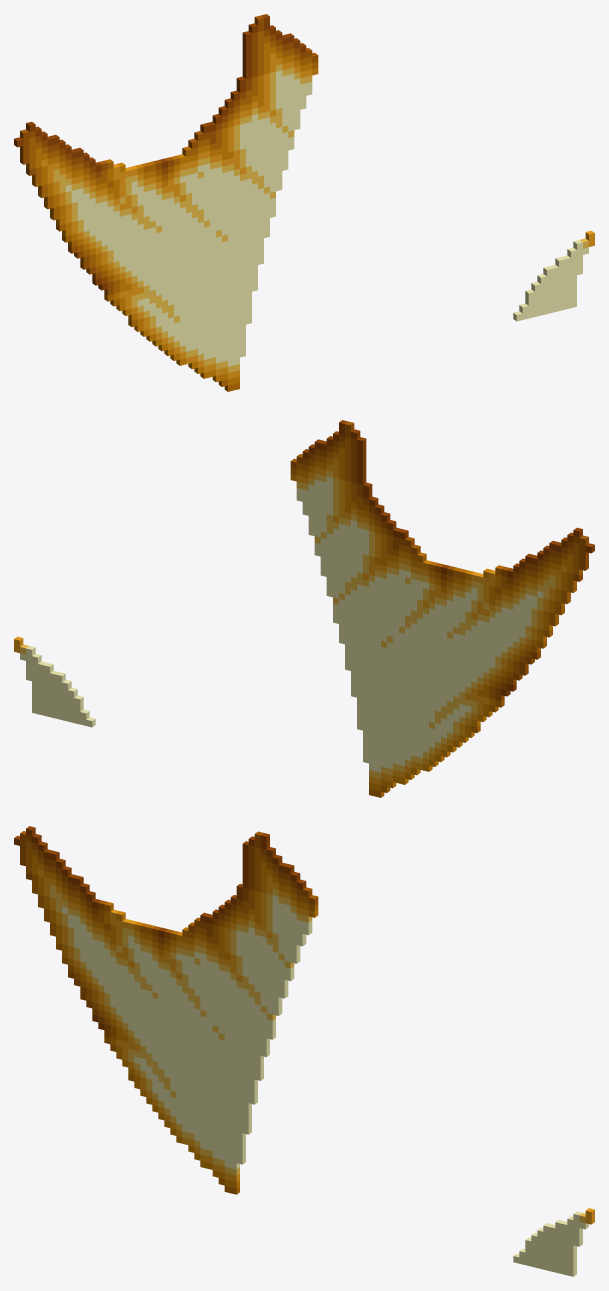
File: Fight_203_2_09_fx.obj
The picture shows the model from 3 angles, top to bottom: view 1: azimuth 30°, elevation 25°; view 2: azimuth 150°, elevation 25°; view 3: azimuth 330°, elevation 25°; orthographic projection.
Size of the model in its own units: 9.6 by 5.8 by 0.1.
1 material, 1 textured.
